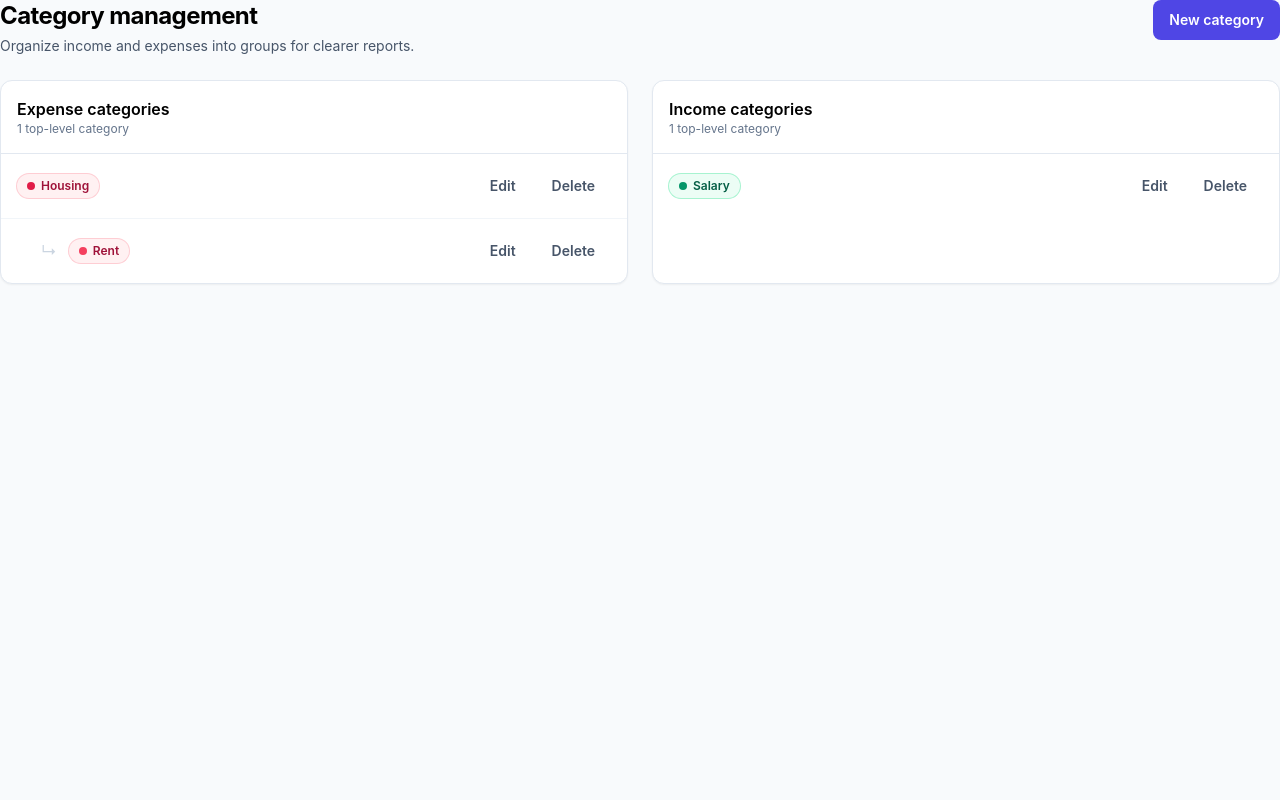
Test: CategoriesPage › explains how to resolve an in-use deletion
The width and height of the screenshot is (1280, 800).
Click the button "Delete" in the row of "Rent" at [573, 251], box top-left (536, 231), bottom-right (611, 271)
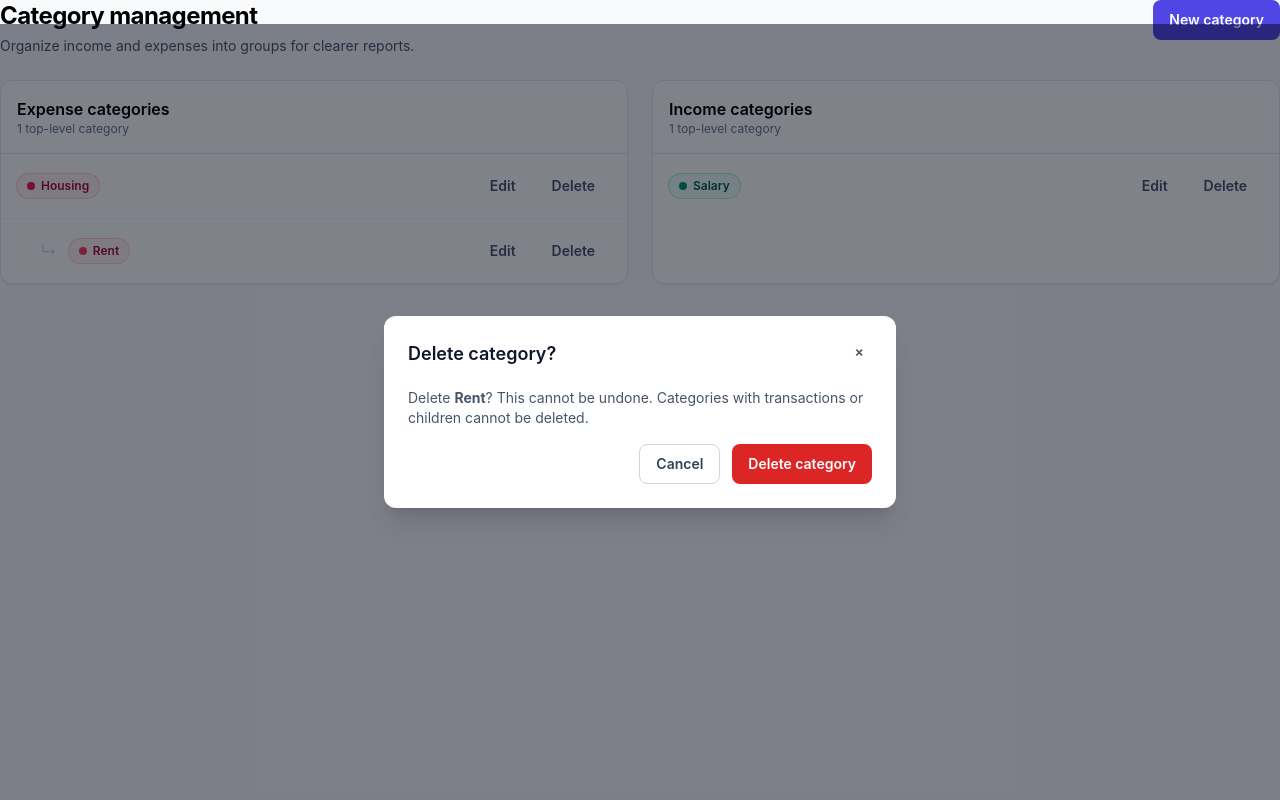
Click the button "Delete category" at [802, 464], box top-left (732, 444), bottom-right (872, 484)
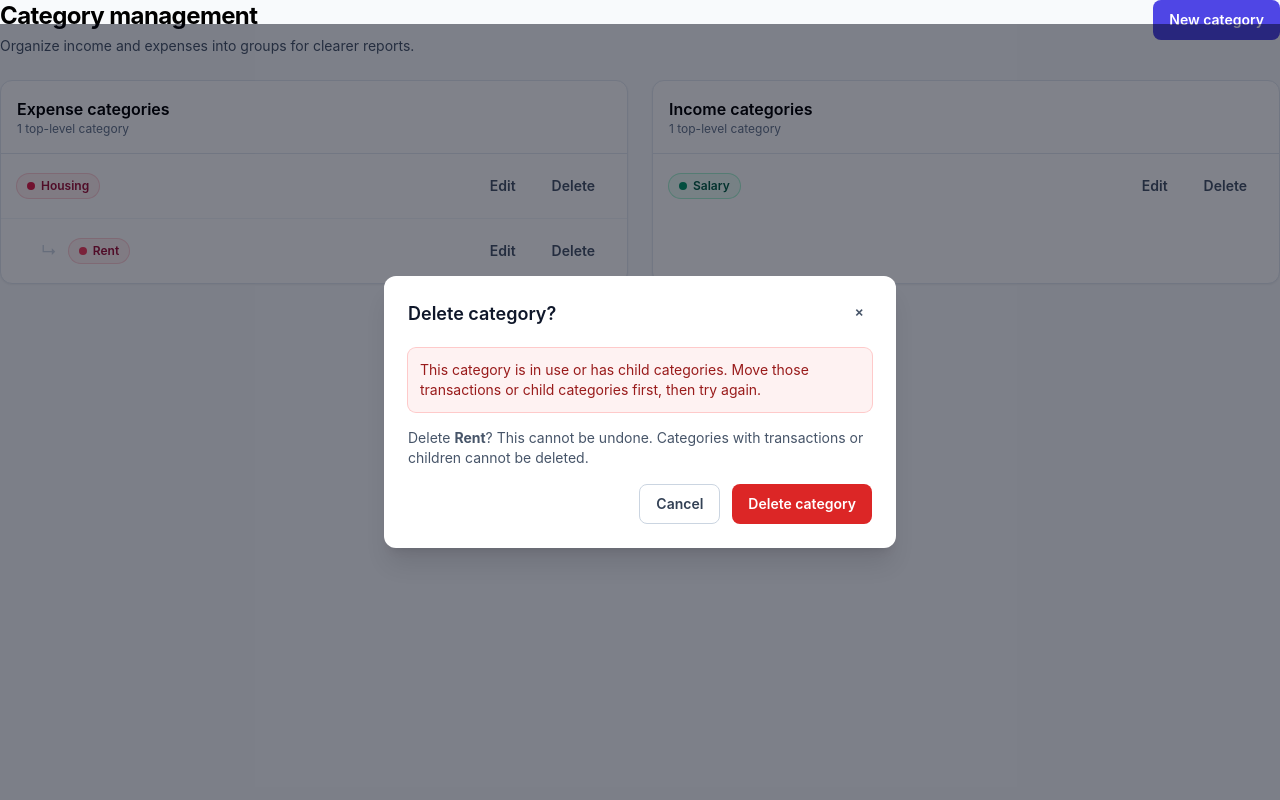
Check: the message shows "move those transactions or child categories first", box top-left (420, 361), bottom-right (809, 398)
